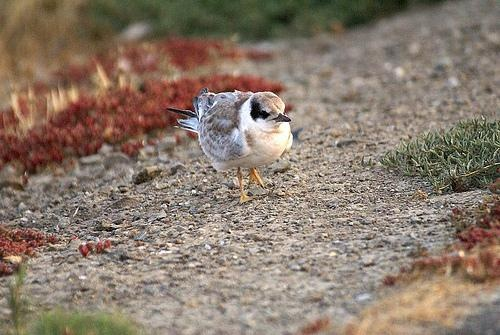bird: (169, 88, 292, 204)
